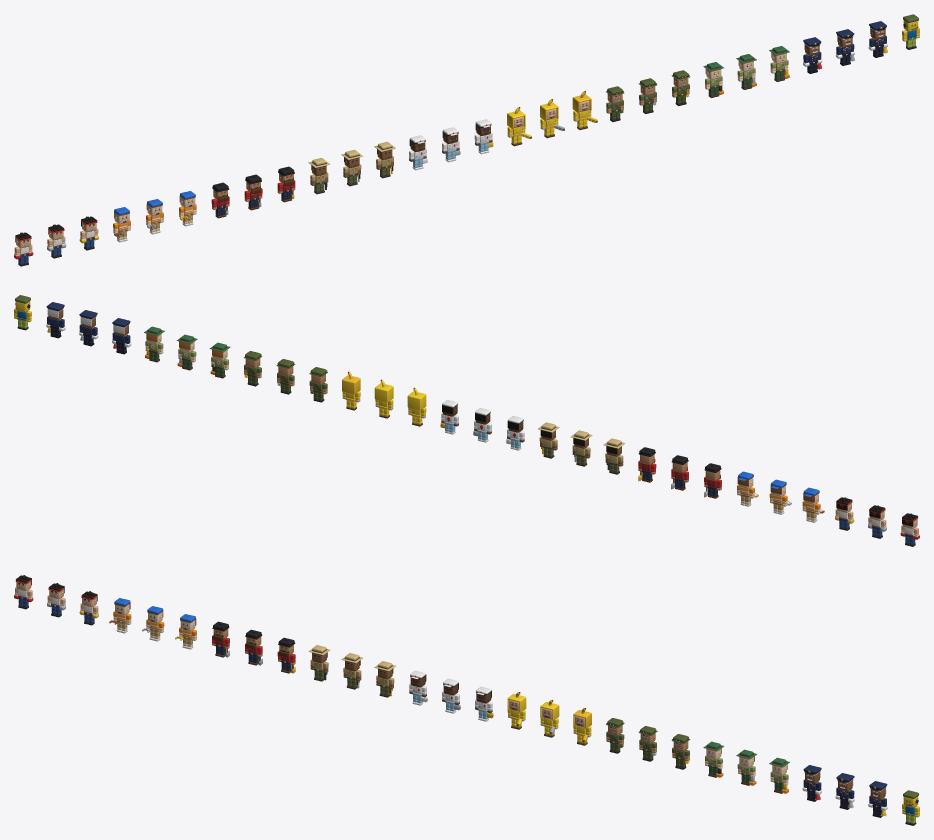
File: Men.fbx
3 views of the same model, one above another, from view 1: azimuth 30°, elevation 25°; view 2: azimuth 150°, elevation 25°; view 3: azimuth 330°, elevation 25° (orthographic).
Bounding box in the file's own units: 206 × 7.99 × 4.66.
28 materials, 28 textured.
